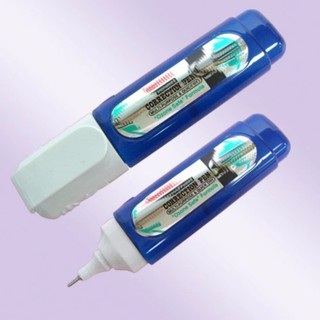Correction_fluid: (7, 5, 288, 221), (63, 108, 297, 294)
